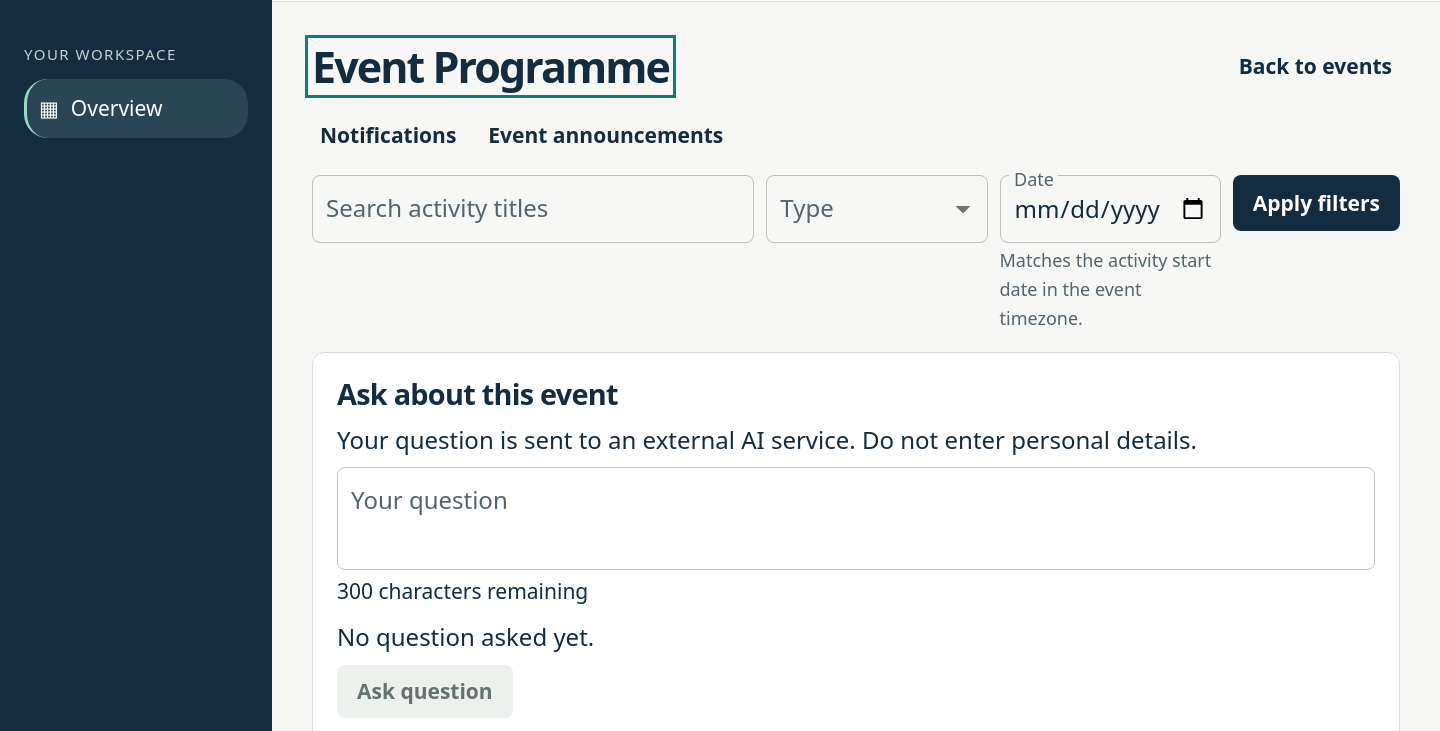
Test case: F03-US02 attendee event question UI (AC01-AC06) › F03Q-UI11 a job marked stale never shows facts even if the wire wrongly carries a result
Expected: the heading "Event Programme" is shown, [312, 42, 669, 91]
Click the text box labelled "Your question": (856, 519) [351, 484, 1361, 554]
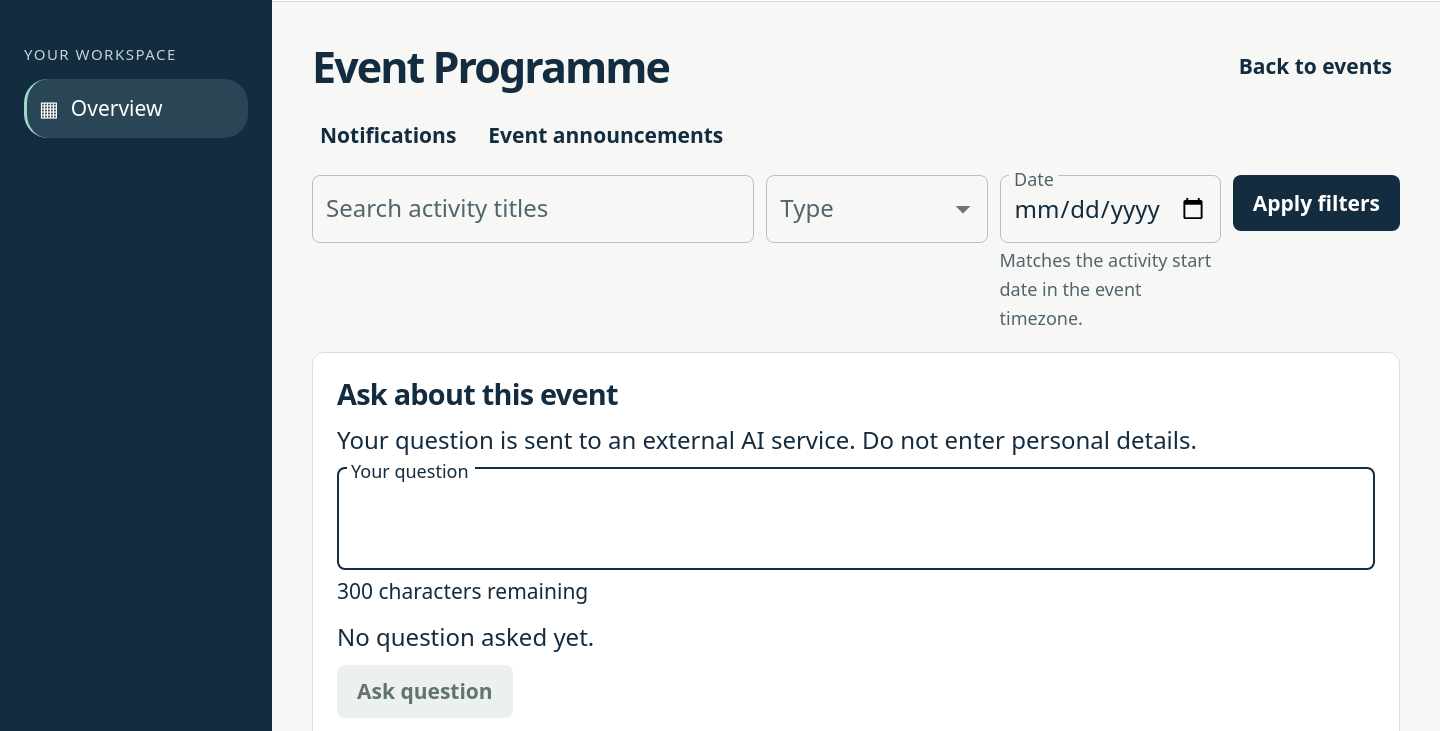
Type keys "When does the evening workshop start and what does it cost?"
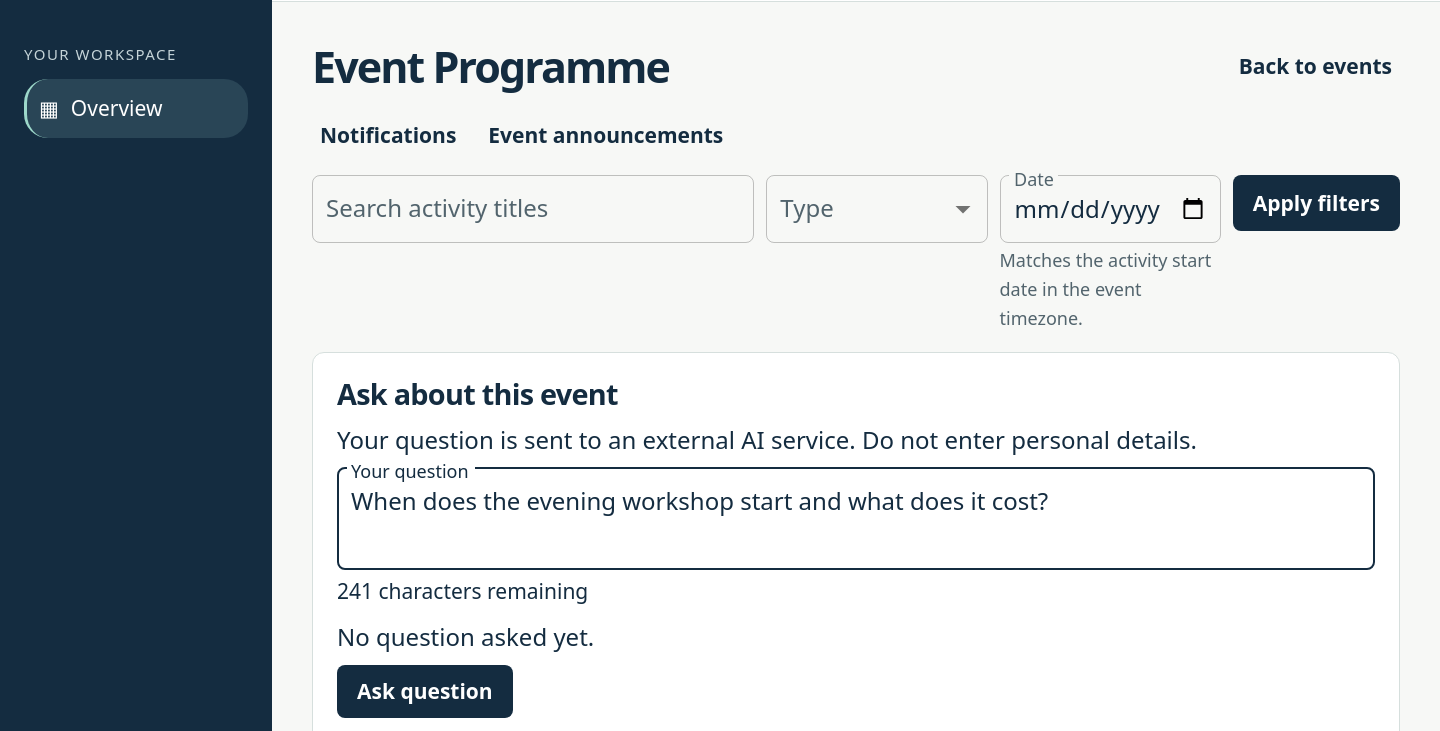
Click the button "Ask question": (425, 691) [337, 665, 513, 718]
(page scrolled)
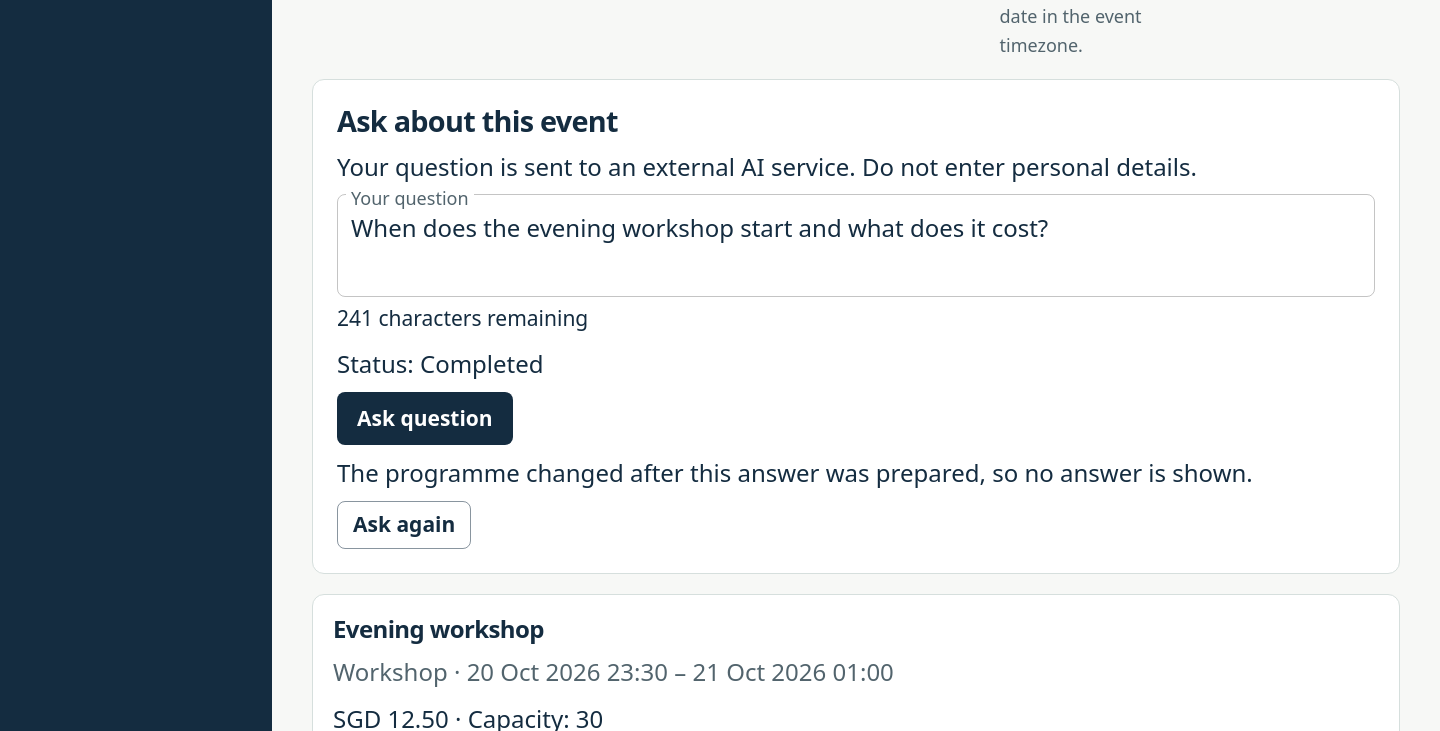
Expected: the element "Ask about this event" does not show "SGD 12.50", [312, 79, 1400, 574]
Expected: the message named "Question status" shows "Completed", [337, 347, 544, 380]
Expected: the text "The programme changed after this answer was prepared, so no answer is shown." is shown, [337, 453, 1375, 493]
